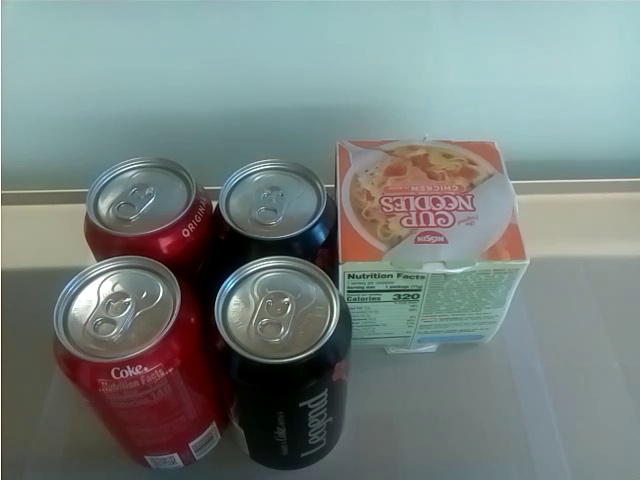cocacola: (47, 256, 223, 478), (210, 257, 348, 469), (70, 152, 214, 256), (215, 155, 331, 256)
noodles: (339, 142, 526, 352)
